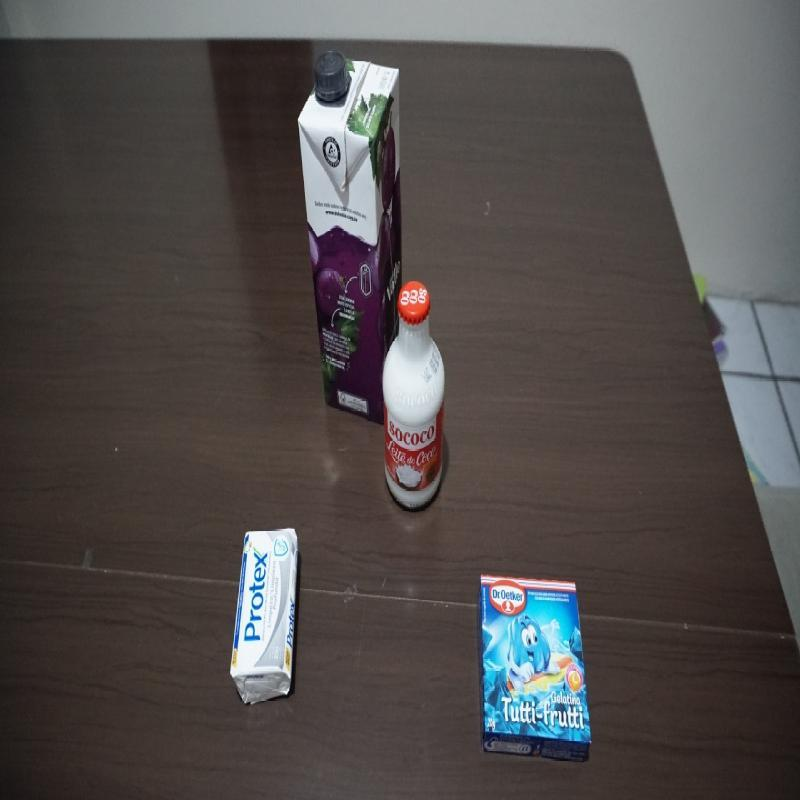Coconut Milk: (382, 278, 447, 509)
Gelatine: (475, 574, 591, 766)
Soap: (229, 523, 302, 711)
